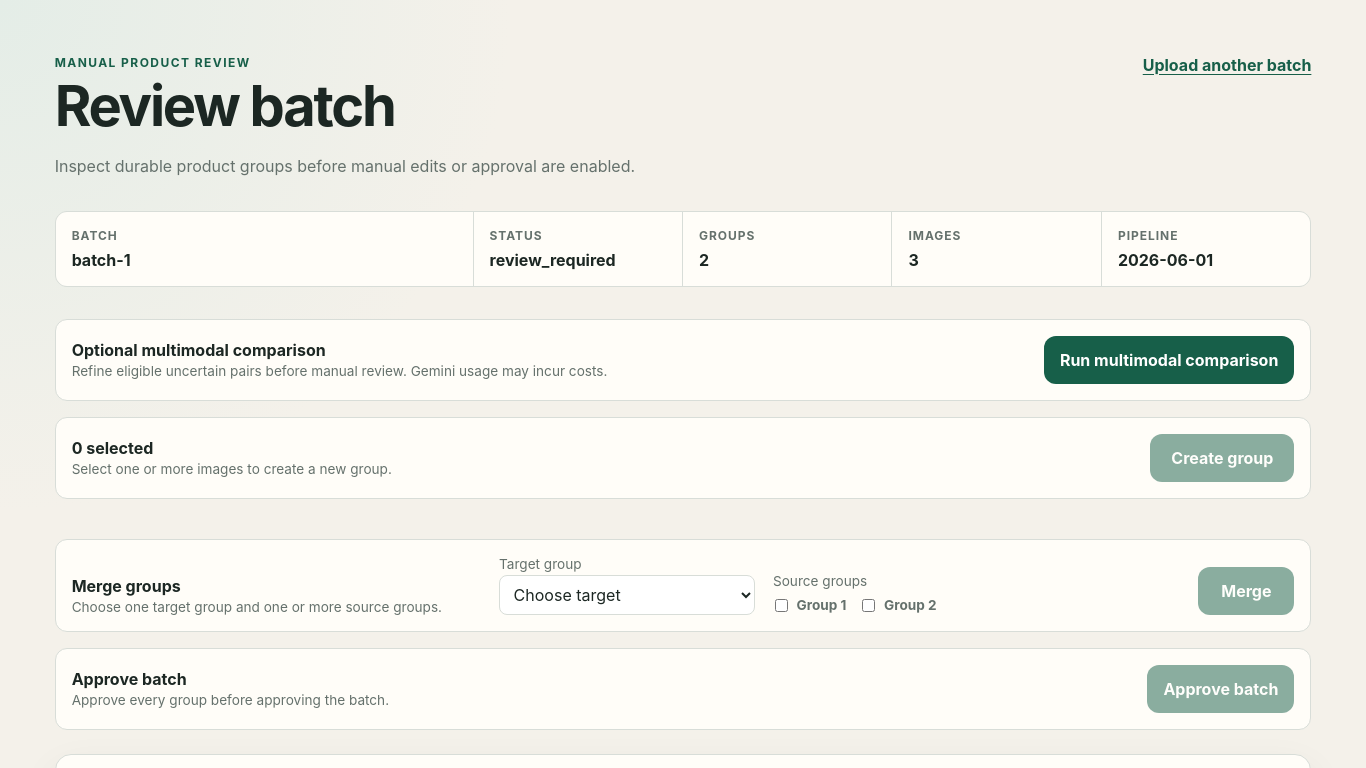
Scenario: ReviewBatch › confirms multimodal comparison in an accessible modal dialog
This screenshot has width=1366, height=768.
Click the button "Run multimodal comparison": (1169, 360) [1044,336,1294,384]
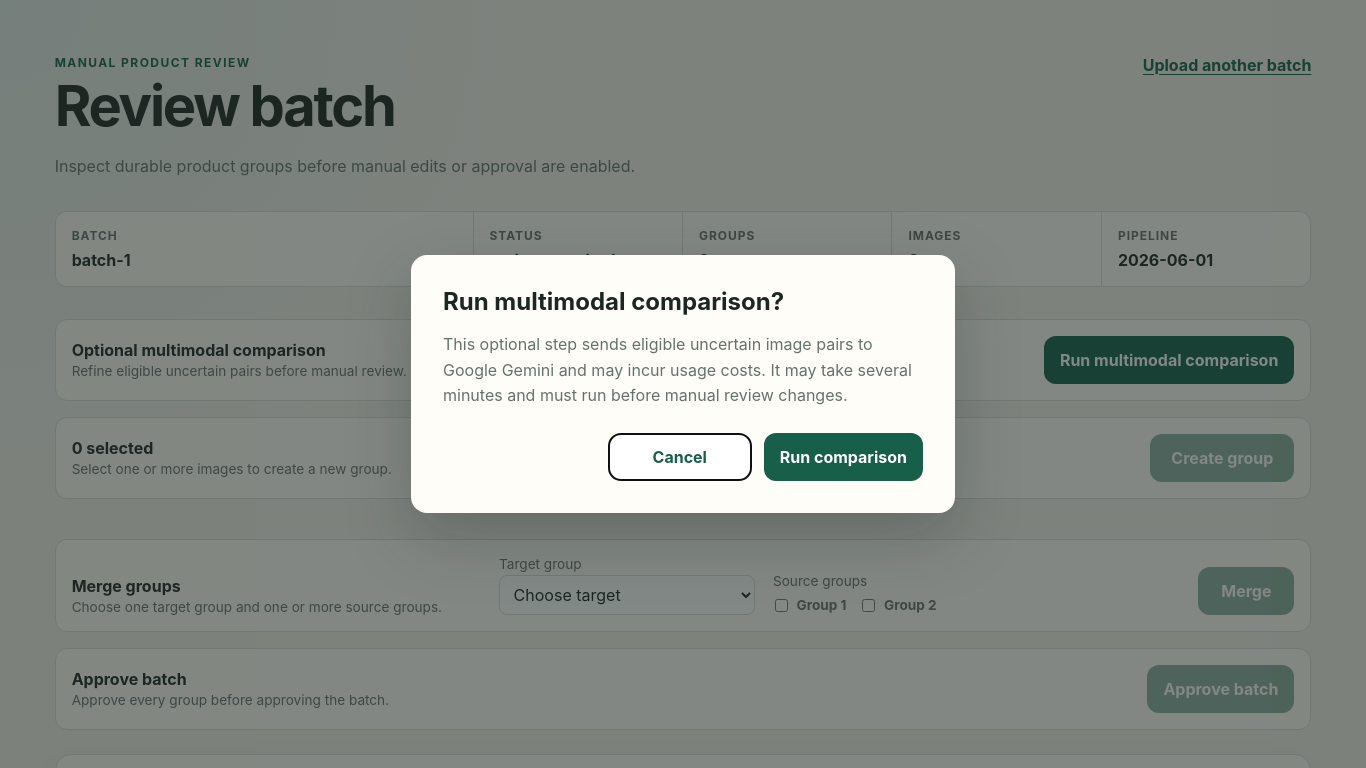
Press Tab
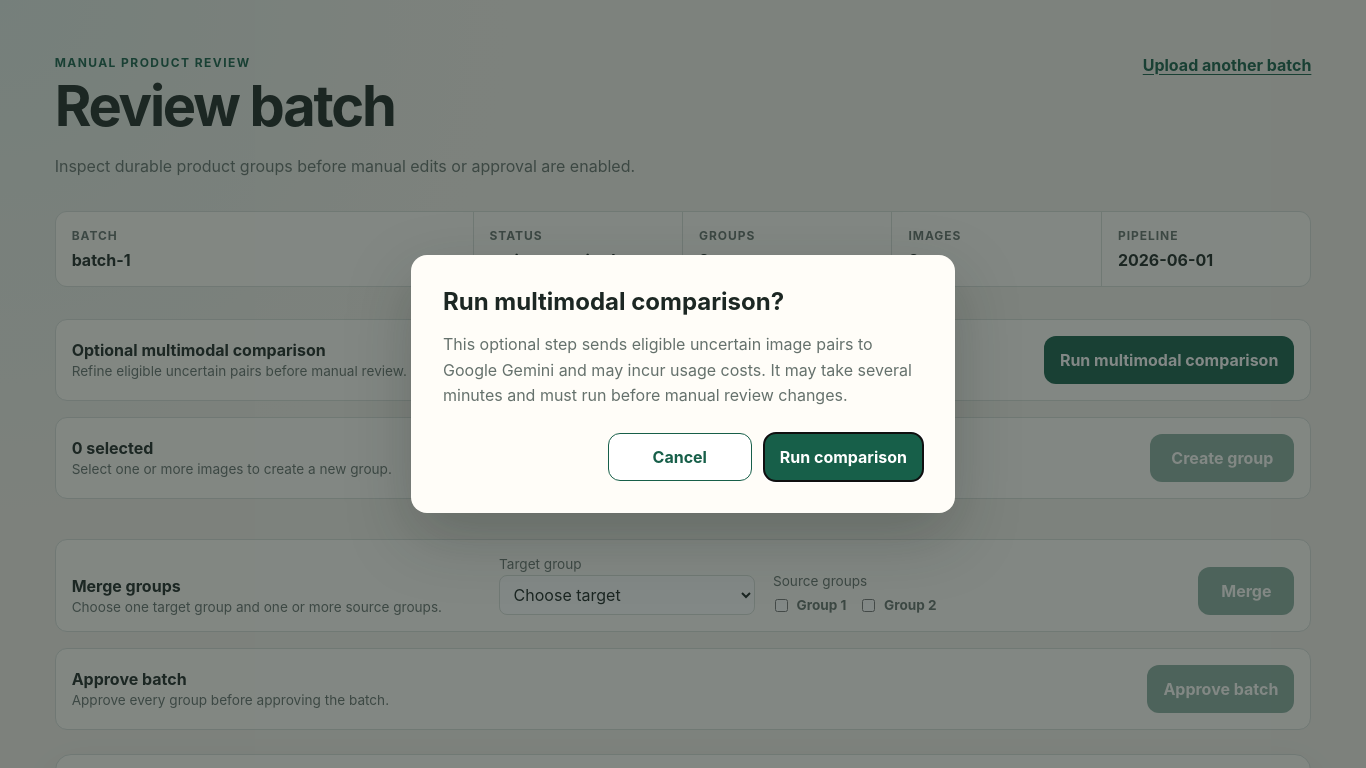
Press Tab
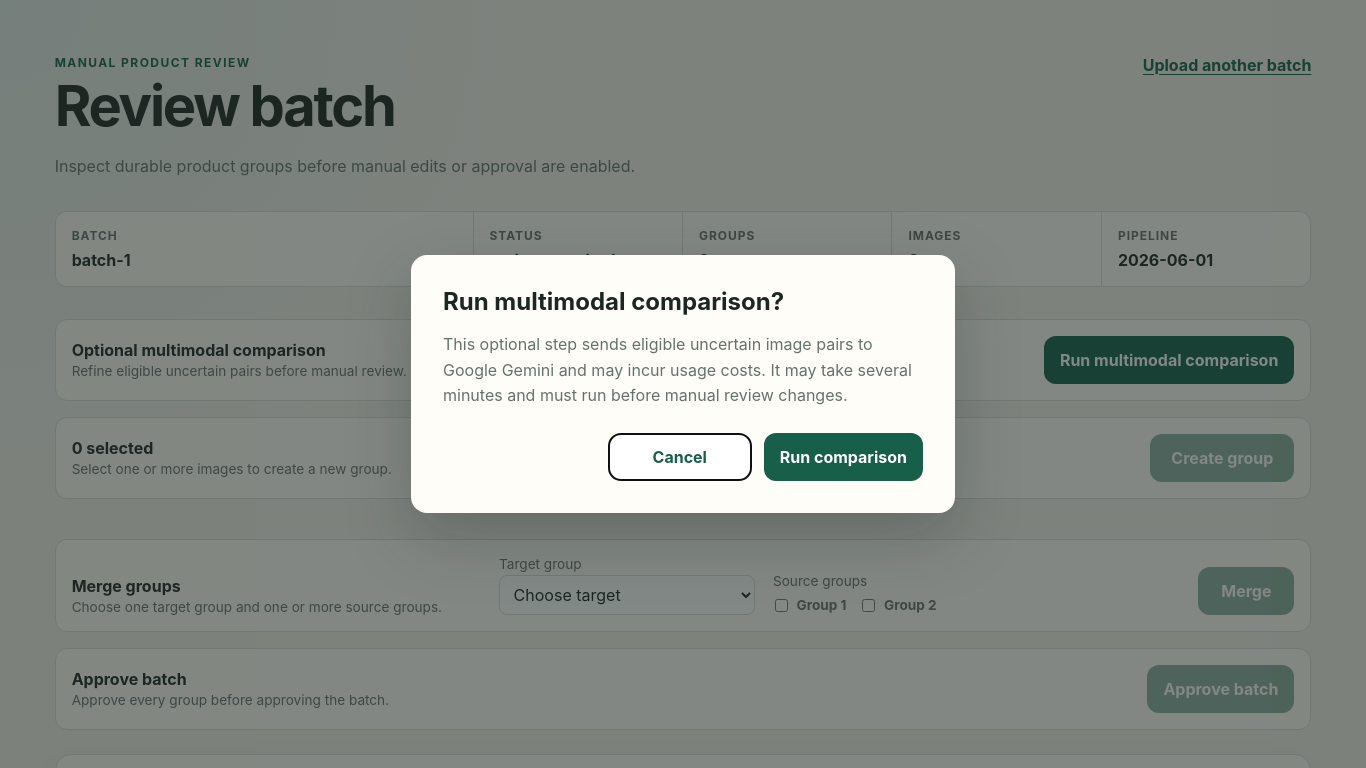
Press Escape
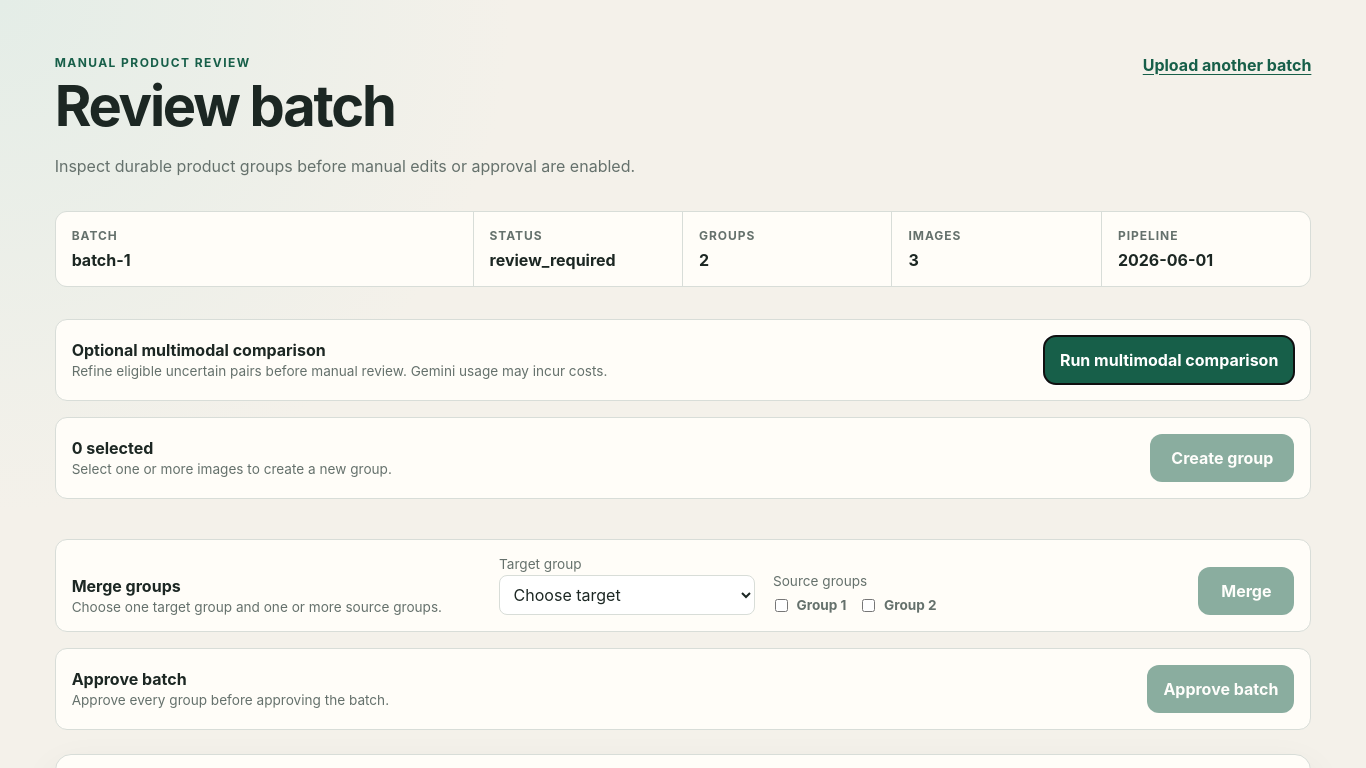
expect the dialog is gone: met
Click the button "Run multimodal comparison": (1169, 360) [1044,336,1294,384]
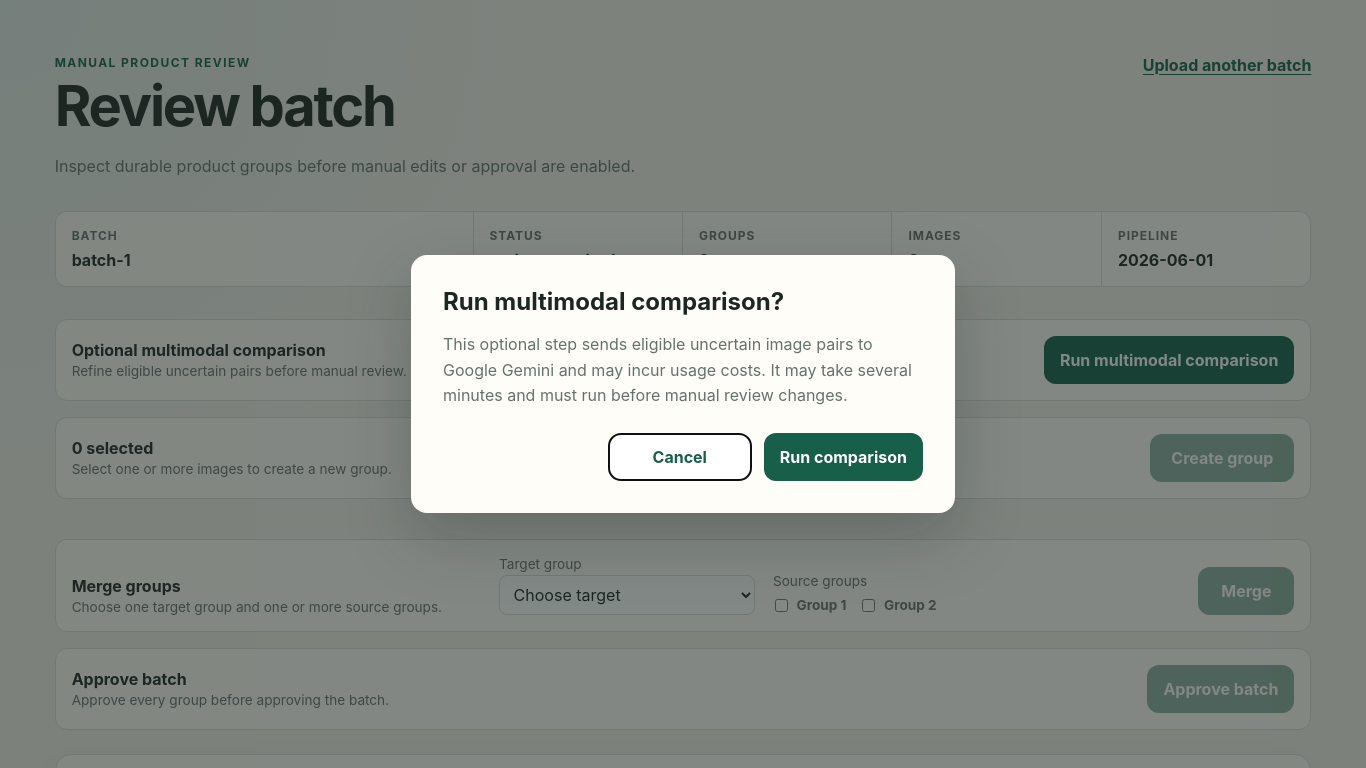
Click the button "Cancel": (680, 457) [608,433,752,481]
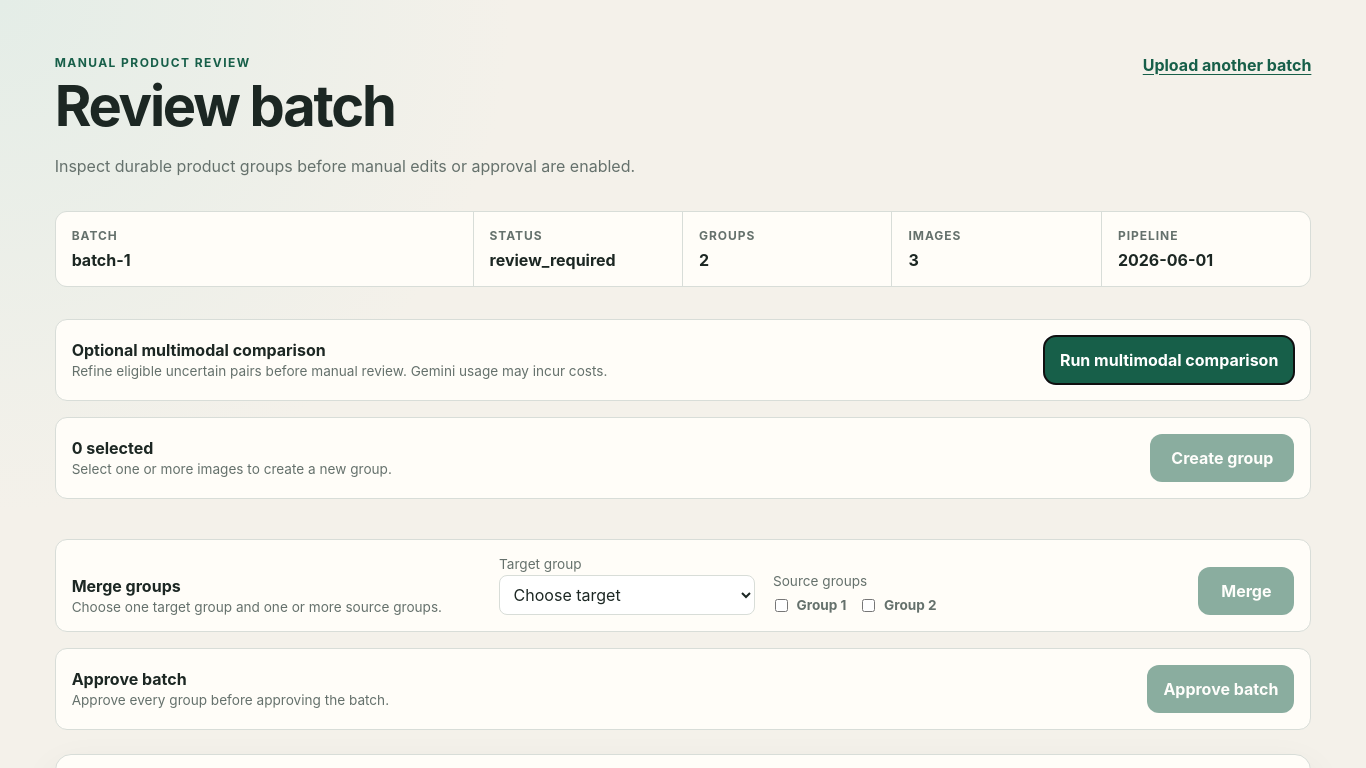
expect the dialog is gone: met
